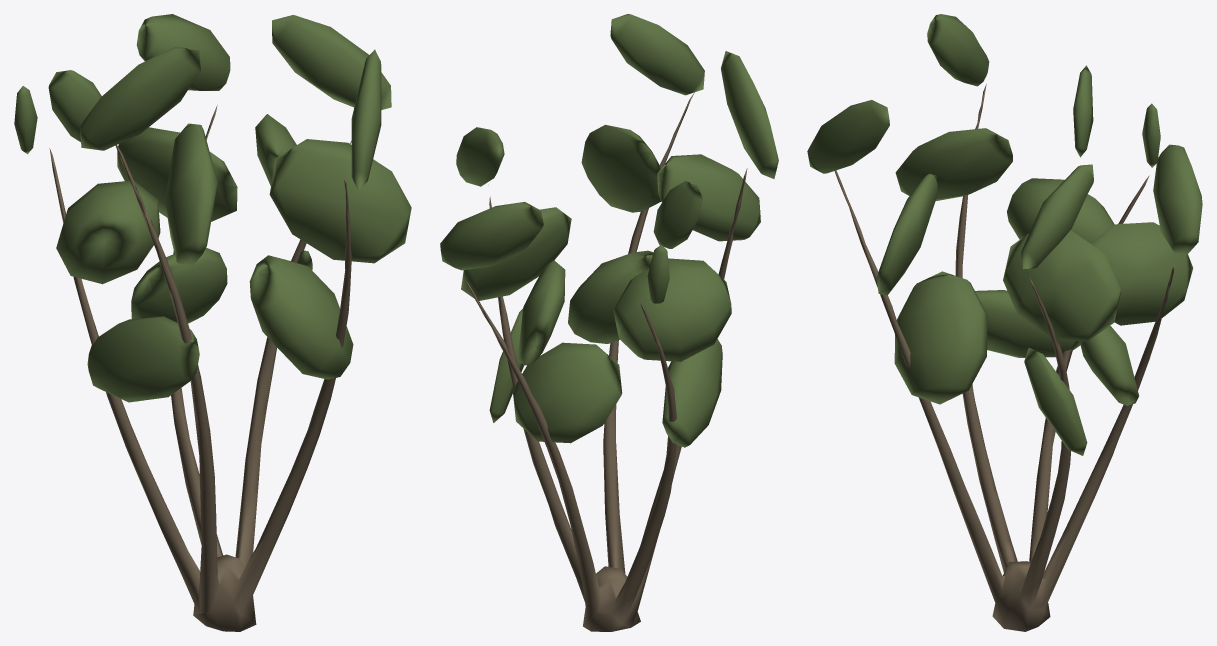
Rendered from Bruyere_0_Niveau2.fbx.
3 renders of one model, left to right at view 1: azimuth 30°, elevation 25°; view 2: azimuth 150°, elevation 25°; view 3: azimuth 270°, elevation 25°, orthographic. The views are drawn at different scales.
Visible parts, largest first — view 1: Bruyere_0_Niveau2_Jeu; view 2: Bruyere_0_Niveau2_Jeu; view 3: Bruyere_0_Niveau2_Jeu.
Boxes of the visible parts, x1,y1,x2,y2 form: Bruyere_0_Niveau2_Jeu: (14,14,411,631); Bruyere_0_Niveau2_Jeu: (440,14,778,631); Bruyere_0_Niveau2_Jeu: (807,14,1202,631).
Size of the model in its own units: 85.07 by 153 by 97.3.
